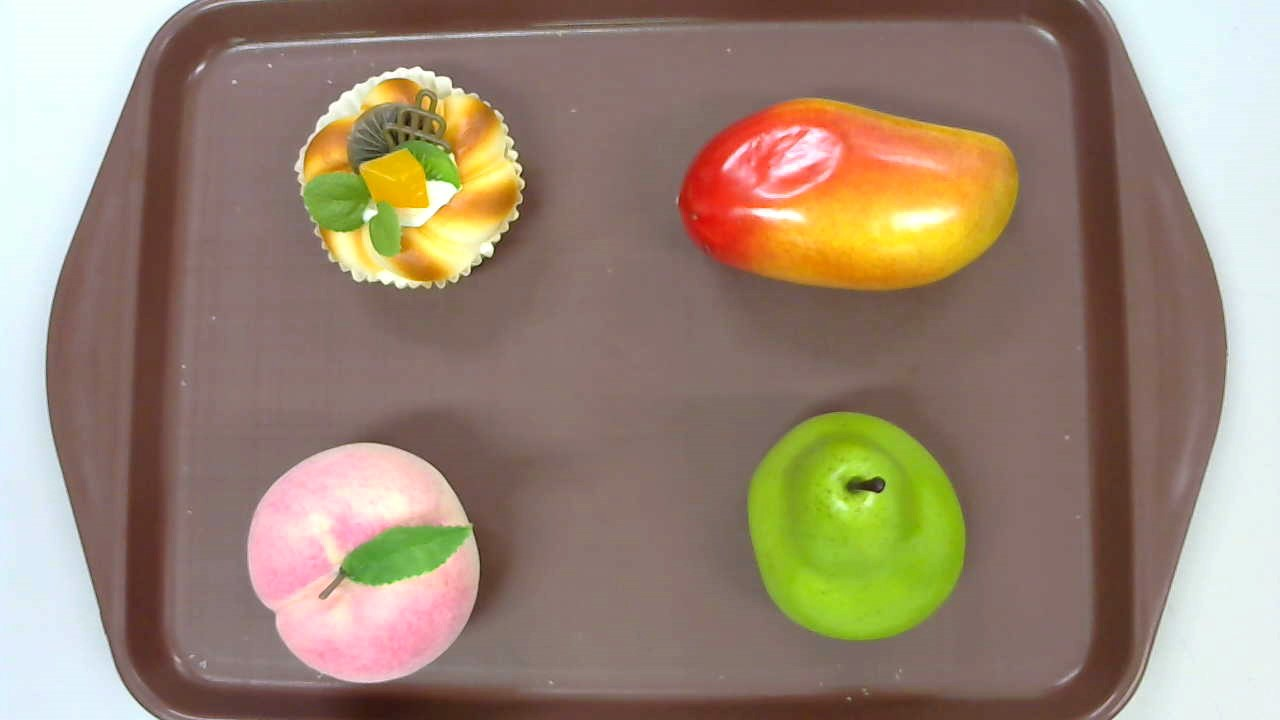fruit tart: (293, 66, 525, 291)
green pear: (747, 411, 966, 642)
peach: (245, 442, 479, 683)
red mango: (678, 97, 1021, 292)
